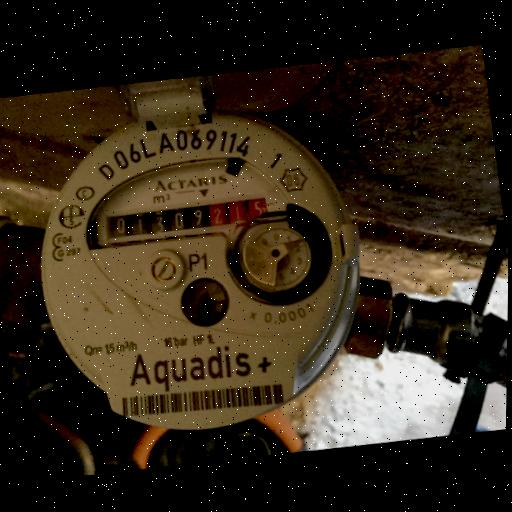0: (171, 207, 188, 232), (114, 215, 129, 238)
1: (228, 199, 245, 225), (132, 211, 148, 236)
2: (211, 203, 225, 227)
3: (152, 210, 166, 235)
5: (251, 198, 266, 219)
9: (191, 205, 207, 229)
border_water_meter_number: (103, 193, 269, 245)
